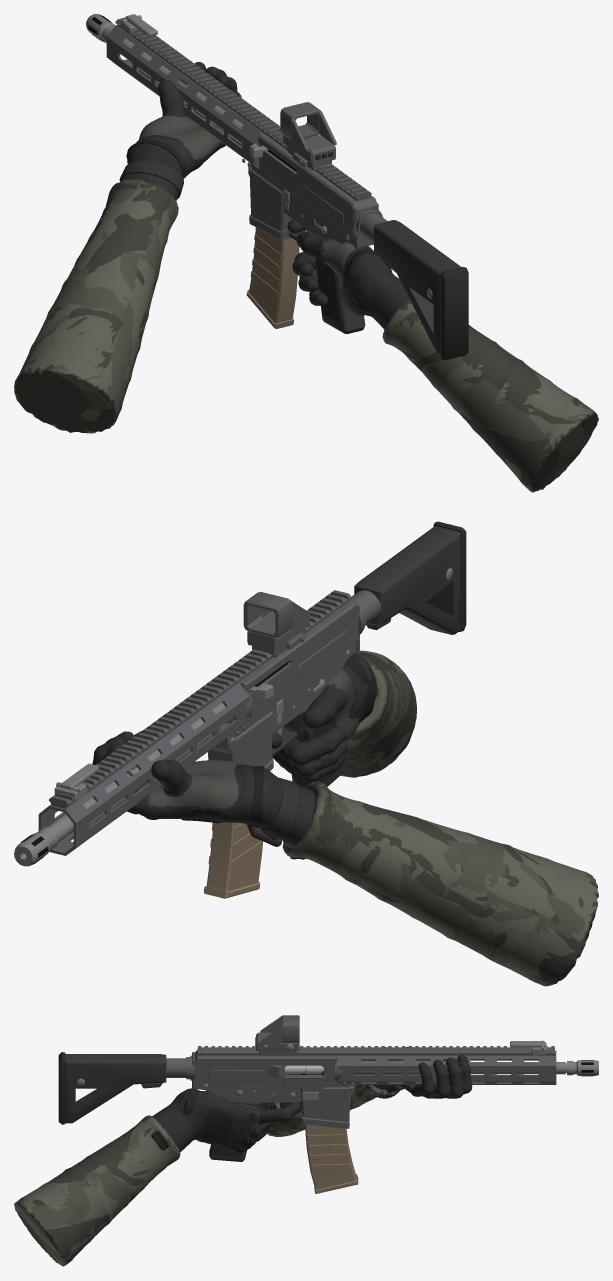
The model's file is carbine.glb.
The picture shows the model from 3 angles, top to bottom: view 1: azimuth 30°, elevation 25°; view 2: azimuth 150°, elevation 25°; view 3: azimuth 270°, elevation 25°; orthographic projection. The views are drawn at different scales.
Visible parts, largest first — view 1: body, arm_l, arm_r, mag; view 2: arm_l, body, arm_r, mag; view 3: body, arm_r, arm_l, mag, bolt.
Part boxes in pixels (<box>): body: <box>86,14,468,360</box>; arm_l: <box>14,62,241,433</box>; arm_r: <box>287,219,598,492</box>; mag: <box>246,227,299,328</box>; arm_l: <box>92,731,598,986</box>; body: <box>14,521,466,866</box>; arm_r: <box>272,650,416,782</box>; mag: <box>204,822,262,898</box>; body: <box>58,1015,598,1161</box>; arm_r: <box>14,1088,300,1266</box>; arm_l: <box>261,1046,472,1136</box>; mag: <box>305,1124,358,1193</box>; bolt: <box>284,1065,323,1074</box>.
Size of the model in its own units: 0.5206 by 0.3462 by 0.8616.
Materials: 15 (2 with a texture image).
